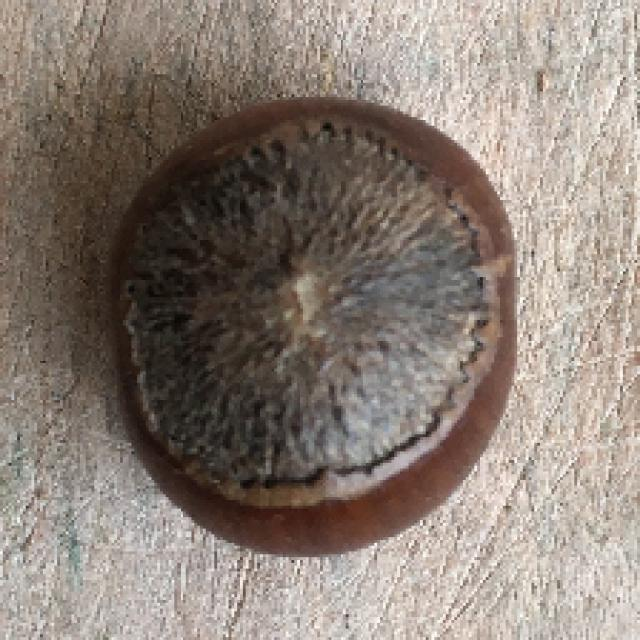damagedHazelnut: (99, 83, 524, 557)
